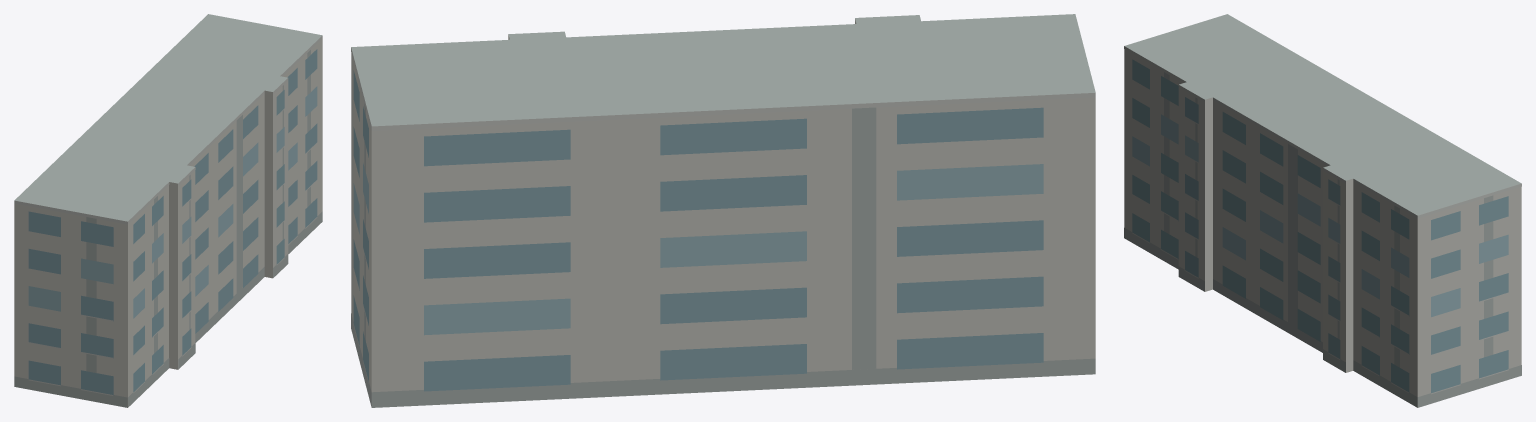
File: residential-b8a6de5a-dc6c-427b-9da7-df128da6c298.glb
3 renders of one model, left to right at view 1: azimuth 30°, elevation 25°; view 2: azimuth 150°, elevation 25°; view 3: azimuth 270°, elevation 25°, orthographic. The views are drawn at different scales.
Visible parts, largest first — view 1: residential-b8a6de5a-dc6c-427b-9da7-df128da6c298.tmp; view 2: residential-b8a6de5a-dc6c-427b-9da7-df128da6c298.tmp; view 3: residential-b8a6de5a-dc6c-427b-9da7-df128da6c298.tmp.
Part boxes in pixels (bbox=[...]): residential-b8a6de5a-dc6c-427b-9da7-df128da6c298.tmp: bbox=[14, 14, 322, 407]; residential-b8a6de5a-dc6c-427b-9da7-df128da6c298.tmp: bbox=[351, 14, 1095, 407]; residential-b8a6de5a-dc6c-427b-9da7-df128da6c298.tmp: bbox=[1124, 14, 1521, 407].
Size of the model in its own units: 34.33 by 15.25 by 28.6.
